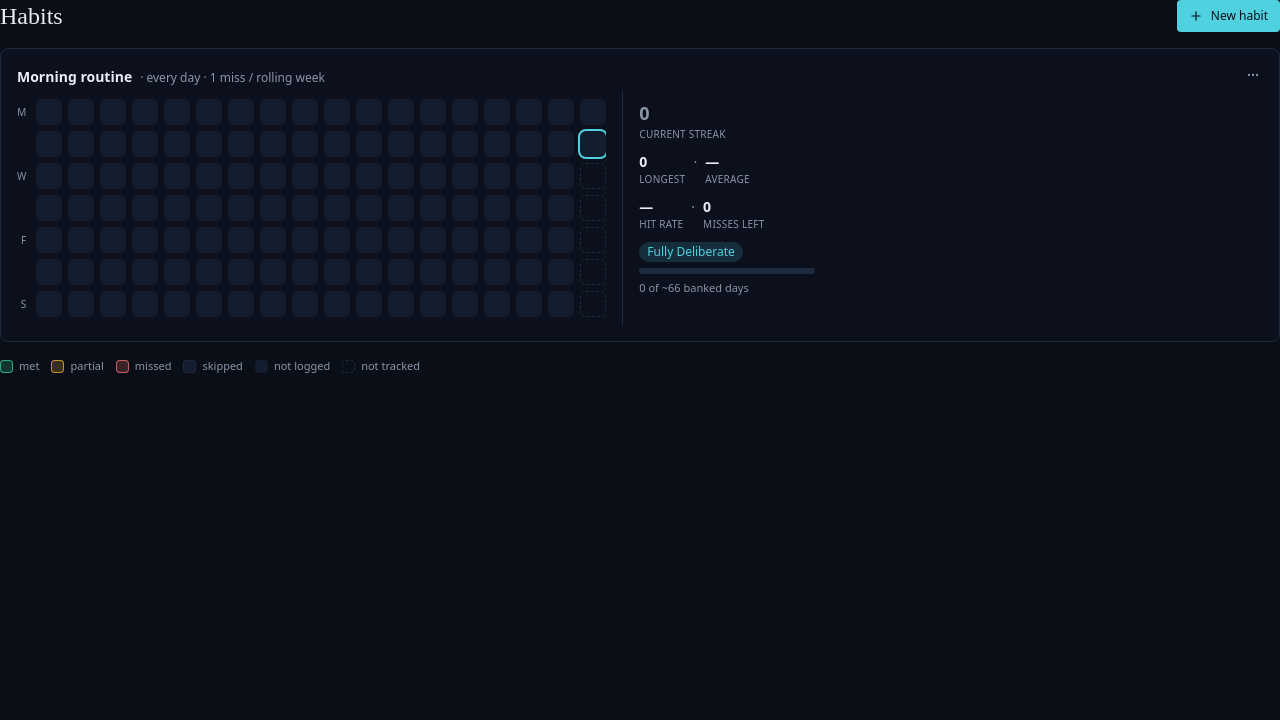
Scenario: HabitsView — the card menu › opens the edit dialog prefilled from the habit it was opened on
Click the button named "Options for Morning routine".
click(1253, 75)  # box [1243,65,1263,85]
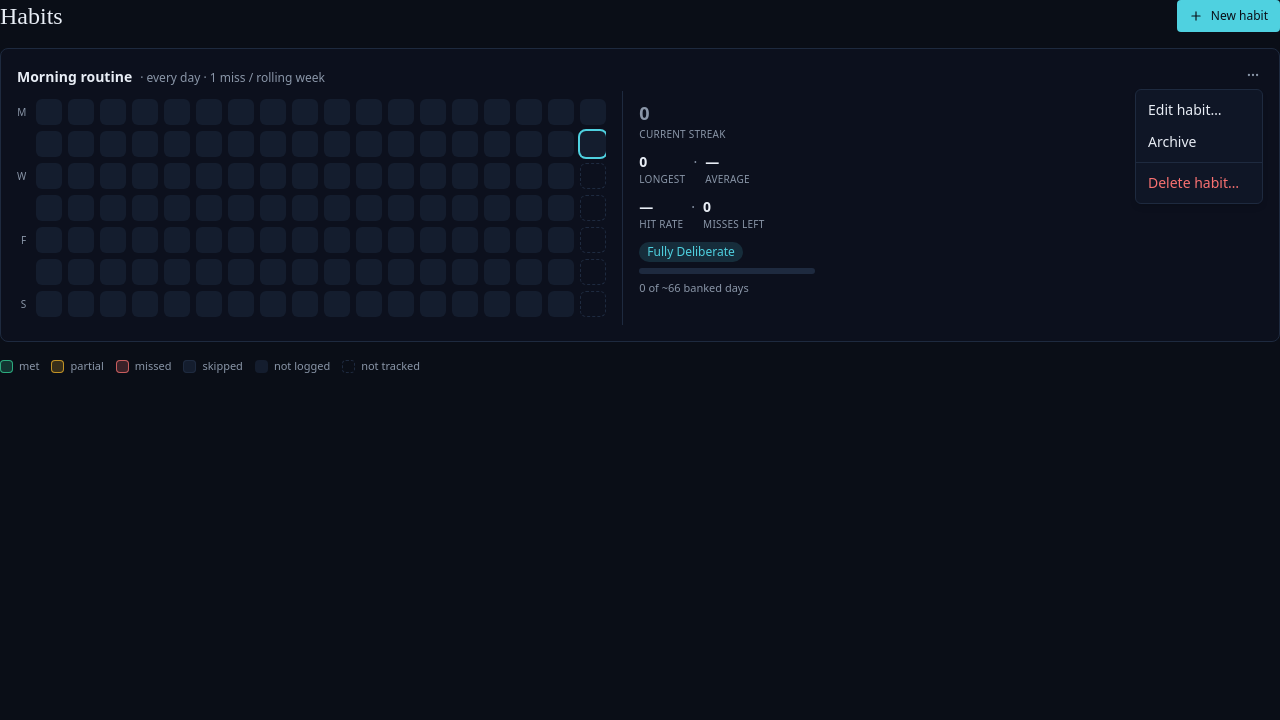
Click the menu item "Edit habit…".
click(1185, 110)  # box [1148,100,1222,119]
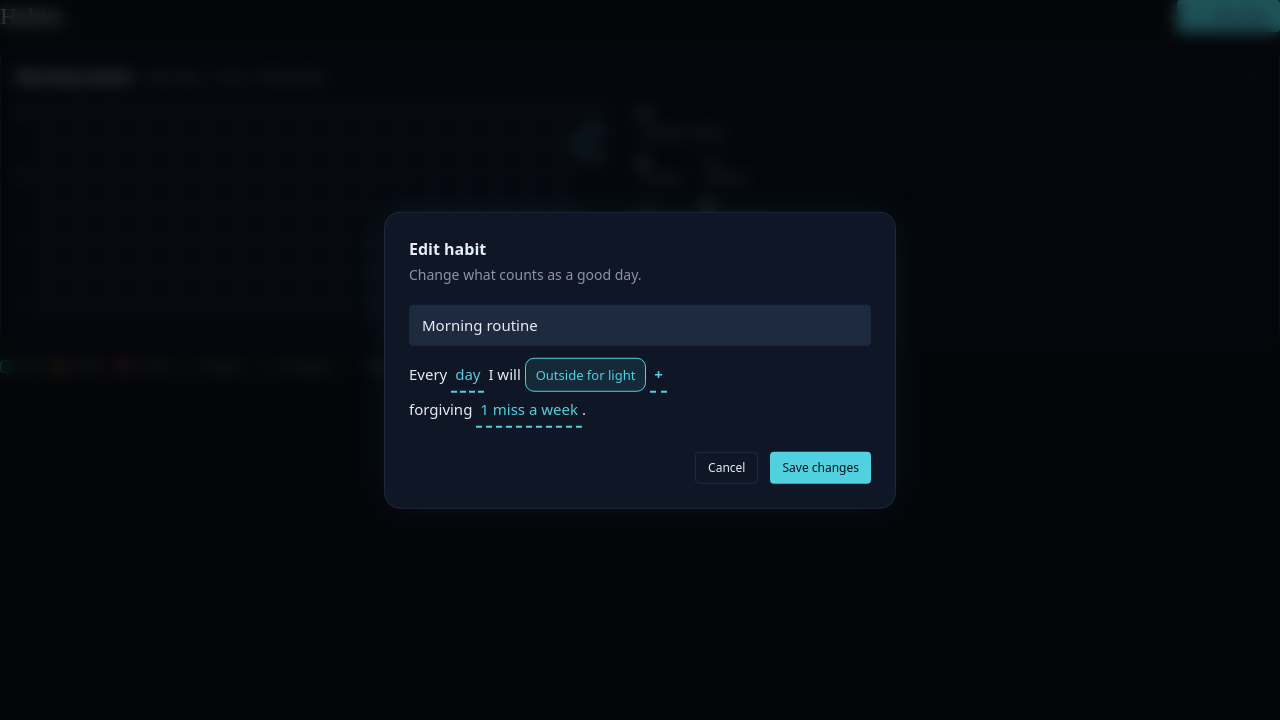
Now the field named "Habit name" holds "Morning routine", box [409,305,871,345]
Now the button "Save changes" is shown, box [770,451,871,483]
